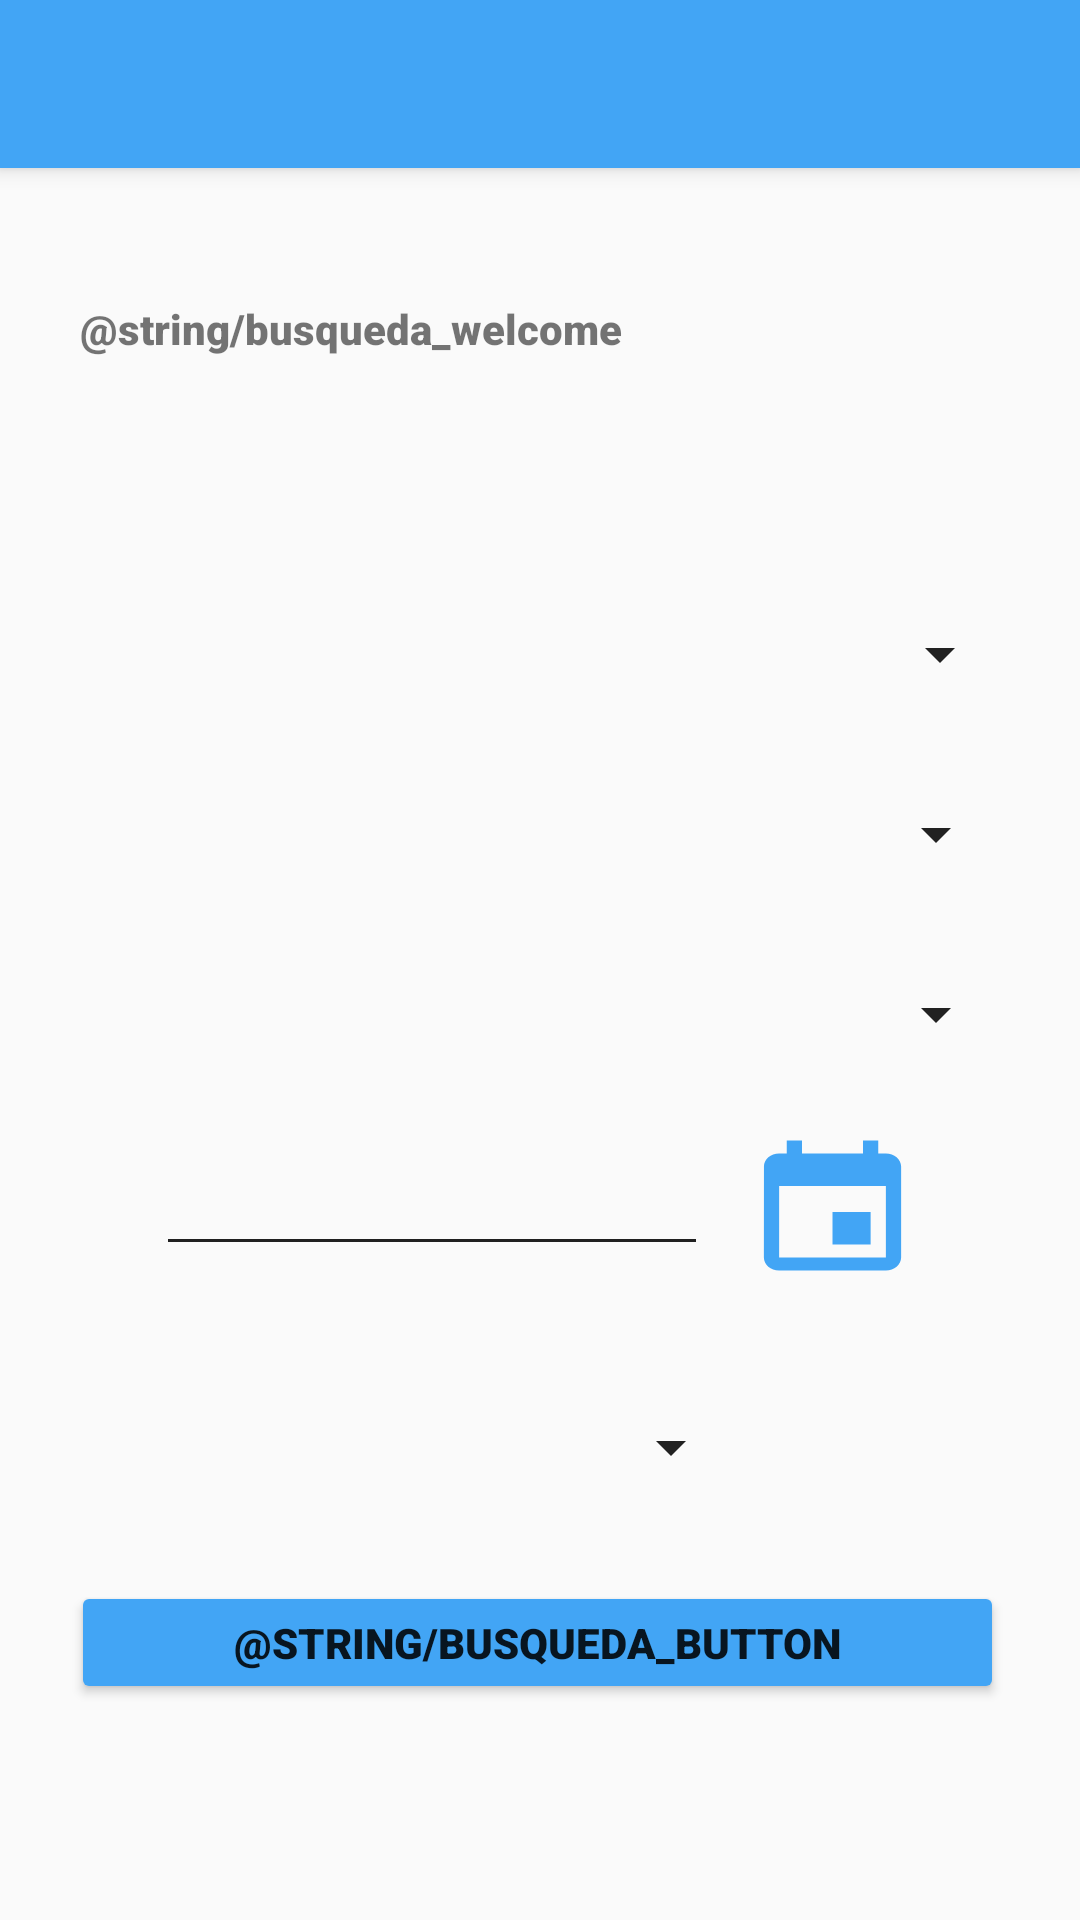

Icons on this 1080 x 1920 Android screen, each with its box as BBox(x1, y1, x2, y2):
event: BBox(764, 1140, 901, 1271)
